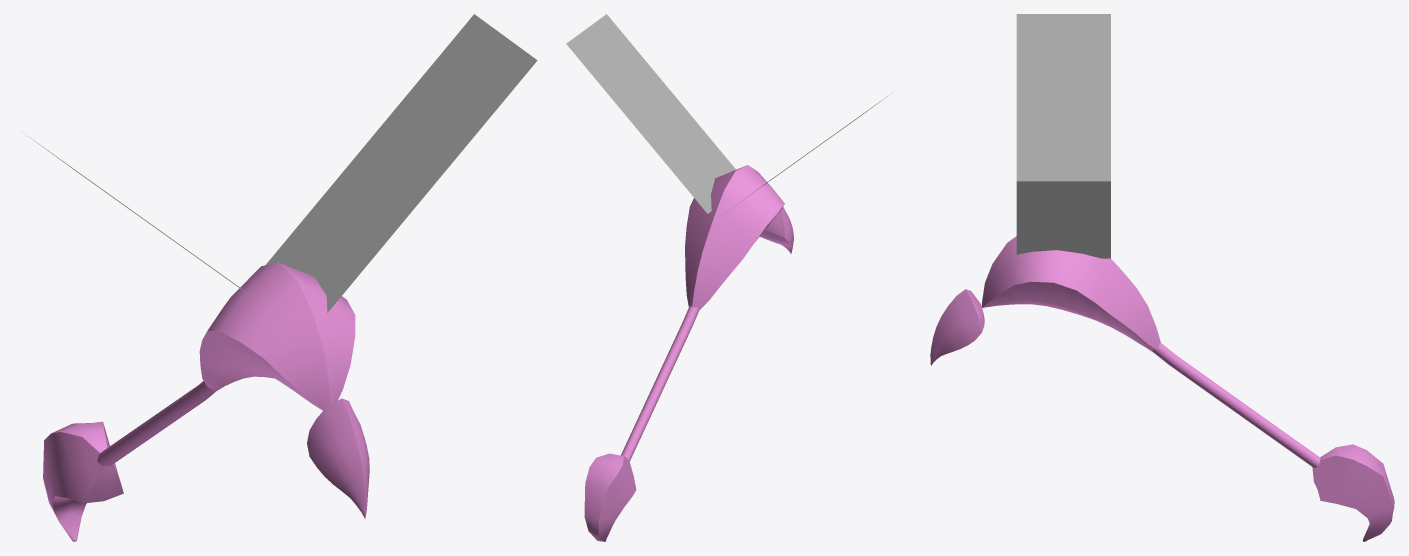
The model's file is TestEnemyLow.fbx.
The picture shows the model from 3 angles, left to right: view 1: azimuth 30°, elevation 25°; view 2: azimuth 150°, elevation 25°; view 3: azimuth 270°, elevation 25°; orthographic projection. The views are drawn at different scales.
Visible parts, largest first — view 1: StingerLow; view 2: StingerLow; view 3: StingerLow.
Boxes of the visible parts, bbox=[...] form: StingerLow: bbox=[25, 14, 537, 541]; StingerLow: bbox=[566, 14, 891, 541]; StingerLow: bbox=[930, 14, 1394, 541].
Size of the model in its own units: 6.52 by 8.07 by 7.64.
